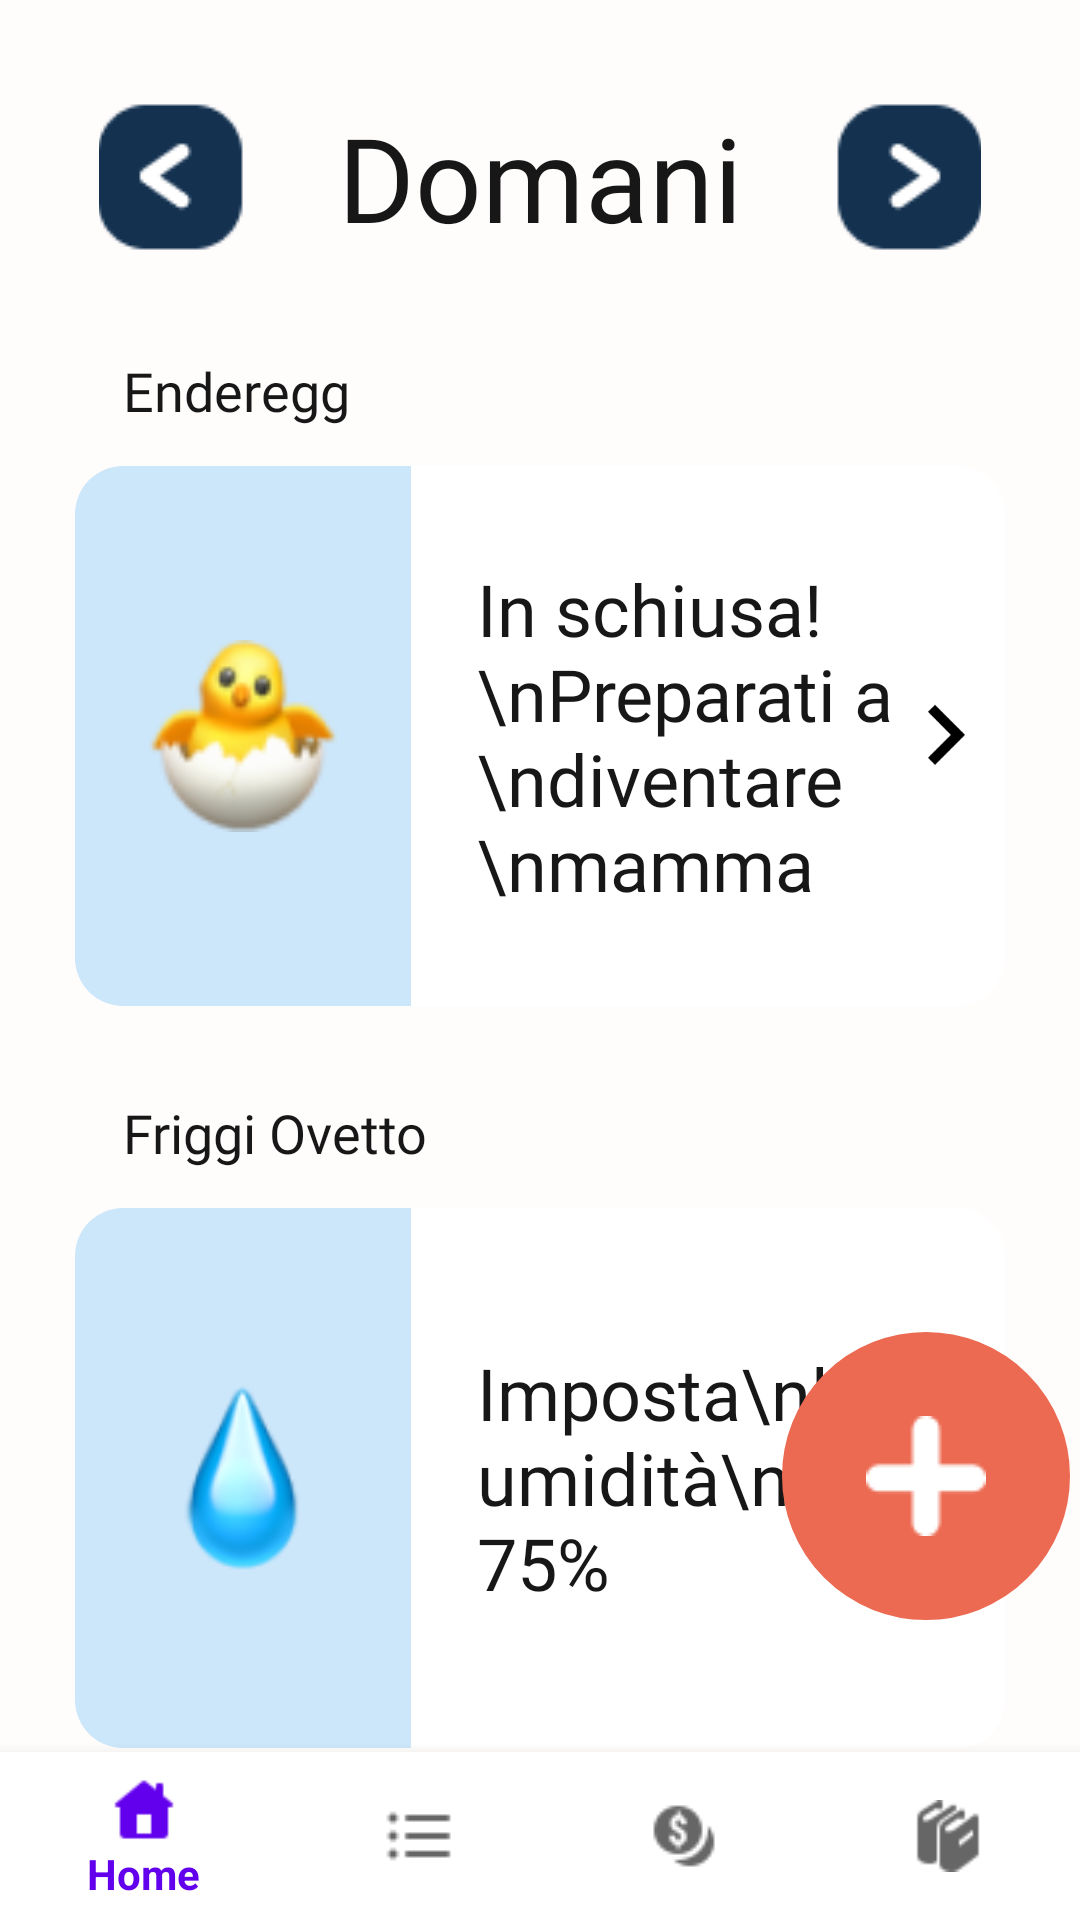

Icons on this 1080px×1920px Android screen, each with the point to tap as (x=x, y=y):
icona goccia: (x=242, y=1478)
icona nascita: (x=243, y=736)
